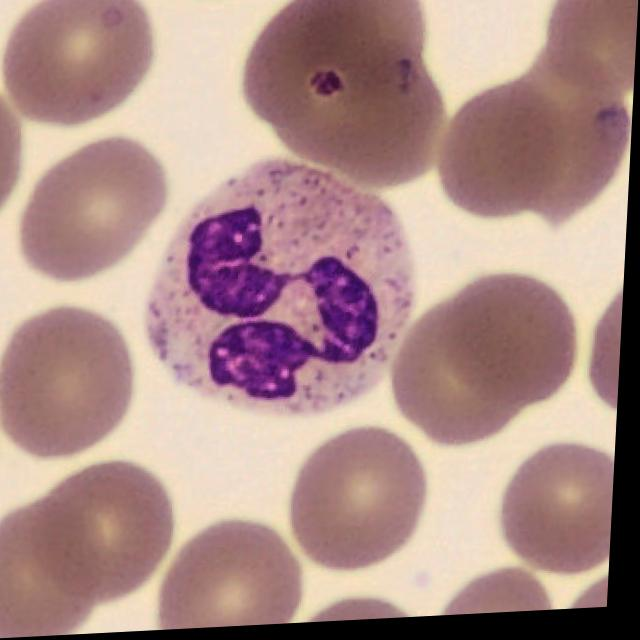Neutrofilo segmentado: (147, 159, 418, 421)
